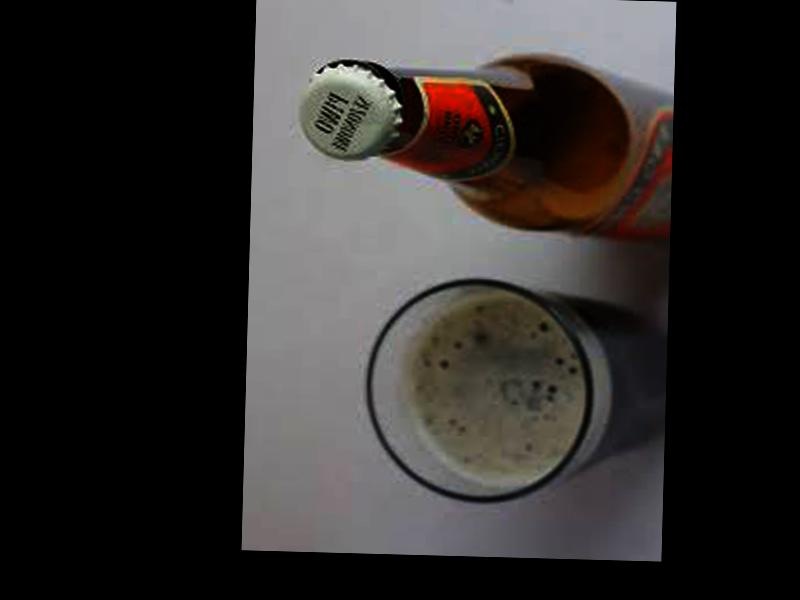Beer: (296, 49, 675, 244)
